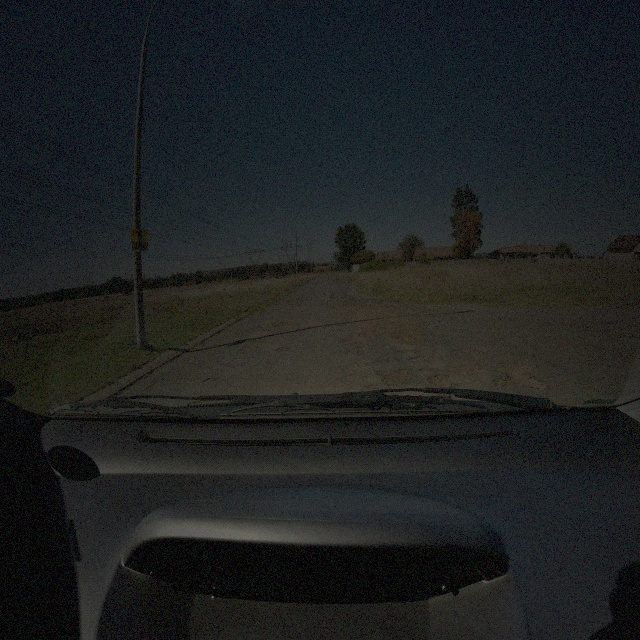pothole: (494, 354, 549, 396), (375, 366, 411, 387), (427, 372, 456, 390), (260, 319, 291, 333), (456, 360, 484, 374), (274, 343, 292, 357), (409, 353, 427, 363), (332, 290, 343, 299), (417, 367, 429, 374), (288, 296, 299, 302)
